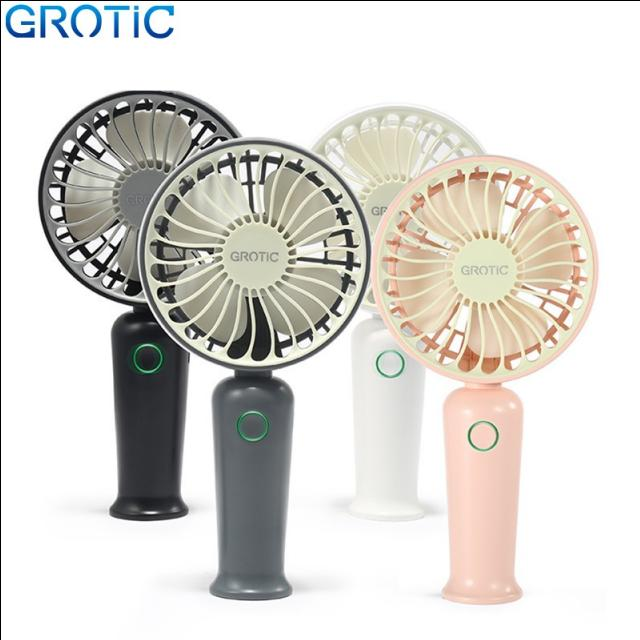fan: (32, 82, 600, 604)
